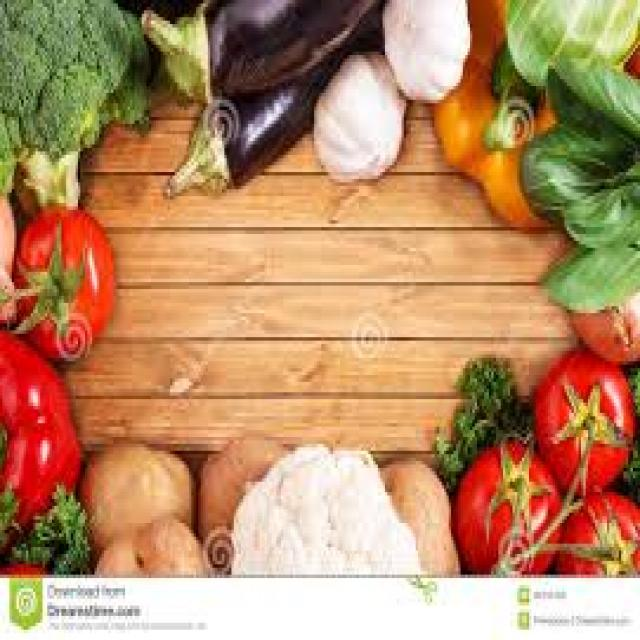organic waste: (428, 0, 638, 224), (0, 0, 158, 213), (160, 38, 357, 193), (229, 441, 423, 572), (135, 0, 387, 93), (514, 55, 638, 241), (0, 324, 83, 544), (12, 199, 113, 358), (448, 437, 560, 575), (529, 344, 633, 489), (427, 351, 529, 482), (80, 434, 194, 547), (312, 48, 406, 179), (196, 437, 286, 571), (503, 0, 638, 79), (378, 454, 456, 571), (380, 0, 468, 103), (0, 472, 90, 572), (564, 262, 638, 362), (557, 485, 638, 575), (536, 244, 638, 310), (97, 513, 208, 571), (616, 368, 638, 499), (0, 192, 19, 324), (5, 547, 47, 575)
